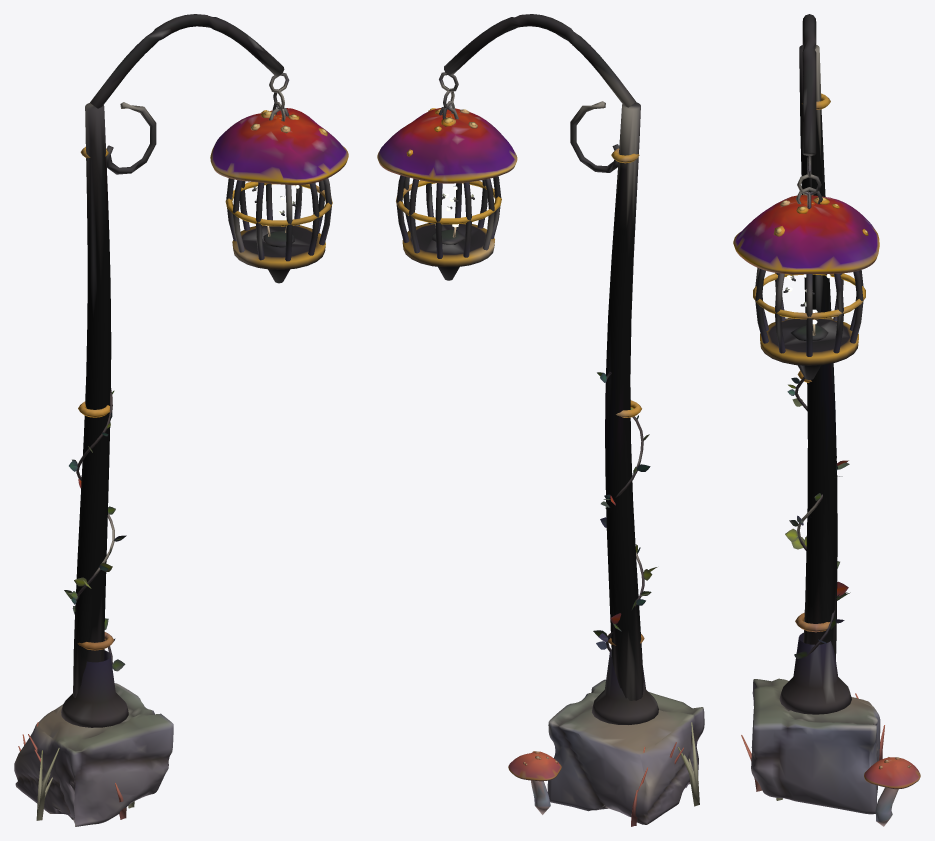
The model's file is lamba_sokak.glb.
3 renders of one model, left to right at view 1: azimuth 30°, elevation 25°; view 2: azimuth 150°, elevation 25°; view 3: azimuth 270°, elevation 25°, orthographic. The views are drawn at different scales.
Parts seen in each view (by area): view 1: lamba_sokak_LOD0; view 2: lamba_sokak_LOD0; view 3: lamba_sokak_LOD0.
Boxes of the visible parts, x1,y1,x2,y2 form: lamba_sokak_LOD0: (14, 14, 348, 826); lamba_sokak_LOD0: (377, 14, 704, 826); lamba_sokak_LOD0: (733, 14, 920, 826).
Size of what is drawn, in the model's own units: 1.65 by 4 by 0.8258.
